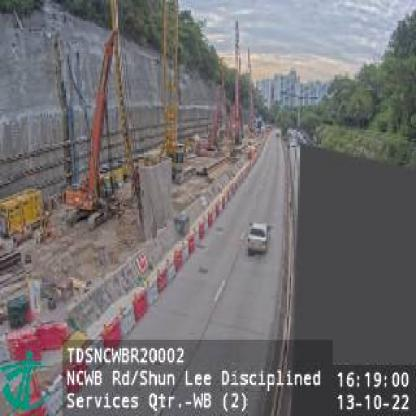Car: (248, 218, 271, 254)
